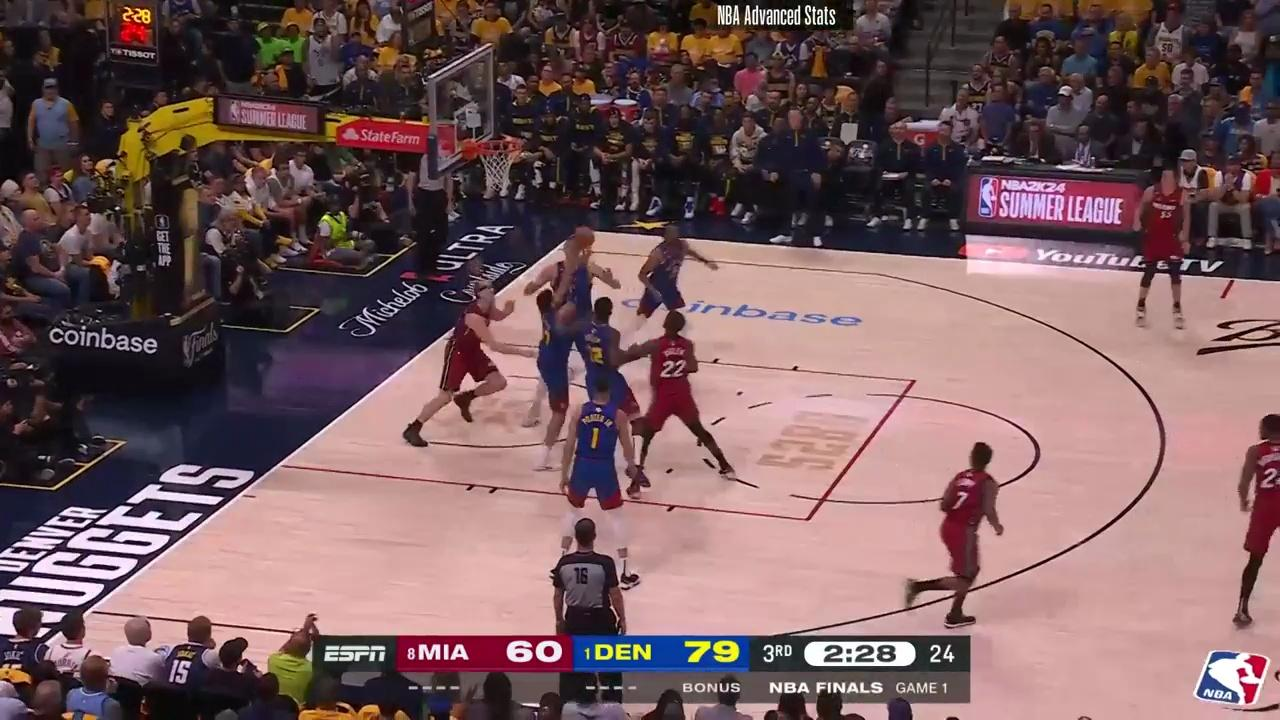Backboard: (436, 47, 495, 178)
Ball: (574, 227, 595, 246)
Basket: (473, 137, 525, 193)
Person: (892, 439, 1004, 634), (616, 312, 735, 487), (410, 273, 521, 457), (1222, 406, 1280, 640), (1127, 162, 1198, 332), (567, 373, 641, 528), (534, 274, 577, 472), (627, 226, 699, 342), (566, 284, 637, 401), (537, 236, 621, 296)
Referee: (552, 521, 638, 640)
Shot Clock: (110, 5, 168, 87)
